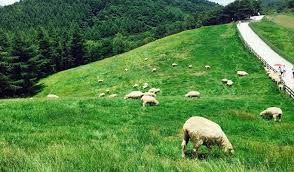sheep: (184, 117, 233, 164), (256, 105, 292, 123), (140, 96, 160, 107), (184, 90, 204, 100), (125, 90, 142, 100), (273, 79, 285, 91), (46, 93, 62, 101), (266, 73, 279, 82), (143, 92, 157, 100), (265, 67, 274, 78), (233, 70, 246, 77), (149, 88, 160, 94), (99, 90, 106, 98), (98, 79, 105, 87), (186, 63, 193, 71), (133, 84, 140, 91), (222, 77, 228, 84), (150, 66, 156, 73), (203, 64, 209, 71), (171, 61, 176, 69), (225, 81, 232, 86)
